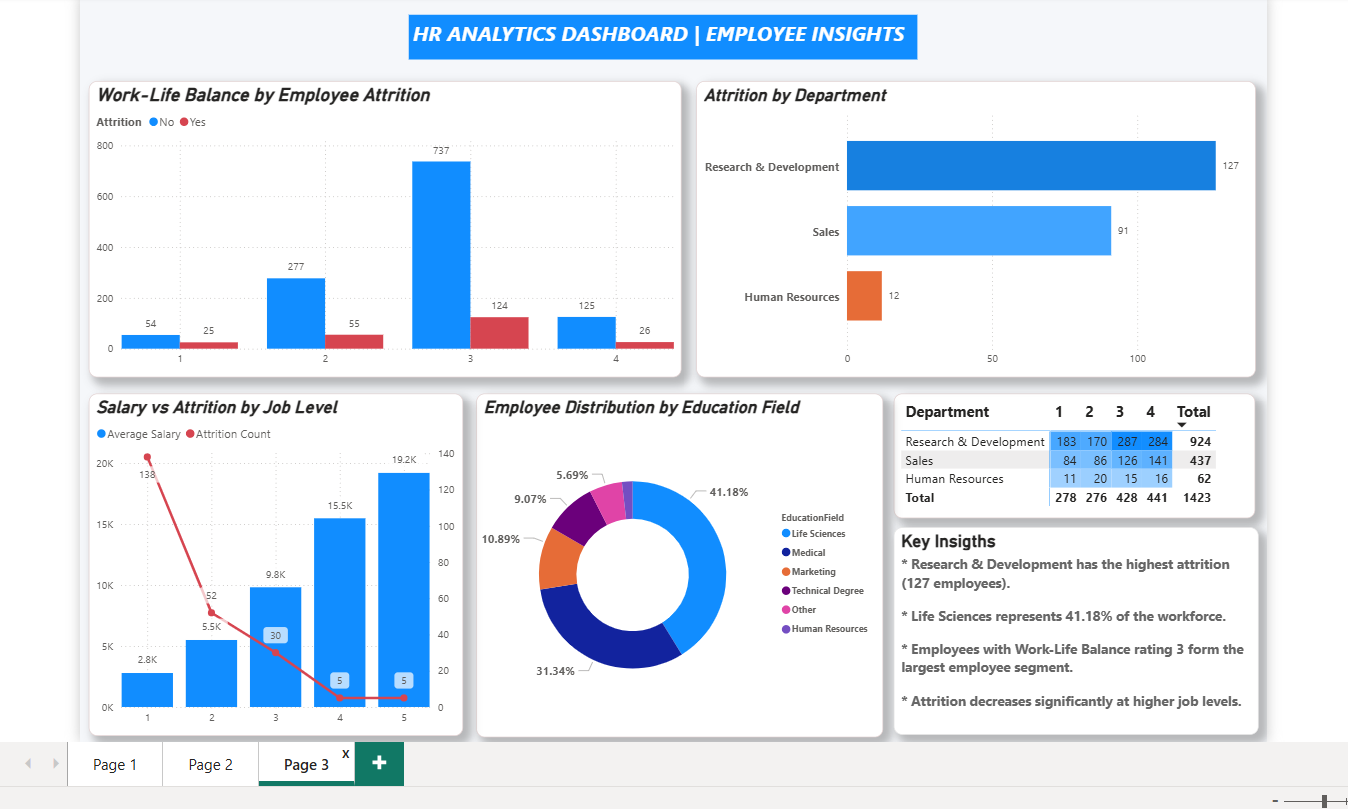

What the dashboard file says about the page in this screenshot:
{"tool":"powerbi","page":{"name":"Page 3","canvas":[1400,880],"ordinal":2},"visuals":[{"type":"textbox","box":[387.2,22.5,600.3,52.5],"z":0},{"type":"pivotTable","fields":{"Rows":["HR_Analytics.Department"],"Columns":["HR_Analytics.JobSatisfaction"],"Values":["HR_Analytics.Total Employees"]},"box":[960.6,468.3,426.2,147.1],"z":1000},{"type":"clusteredColumnChart","title":"Work-Life Balance by Employee Attrition","fields":{"Category":["HR_Analytics.WorkLifeBalance"],"Y":["HR_Analytics.Total Employees"],"Series":["HR_Analytics.Attrition"]},"box":[10.5,100.6,699.4,349.7],"z":2000},{"type":"clusteredBarChart","title":"Attrition by Department","fields":{"Category":["HR_Analytics.Department"],"Y":["HR_Analytics.Attrition Count"]},"box":[726.4,100.6,660.4,349.7],"z":3000},{"type":"donutChart","title":"Employee Distribution by Education Field","fields":{"Category":["HR_Analytics.EducationField"],"Y":["HR_Analytics.Total Employees"]},"box":[466.8,468.3,480.3,405.2],"z":4000},{"type":"lineClusteredColumnComboChart","title":"Salary vs Attrition by Job Level","fields":{"Y2":["HR_Analytics.Attrition Count"],"Category":["HR_Analytics.JobLevel"],"Y":["HR_Analytics.Average Salary"]},"box":[10.5,468.3,441.3,403.7],"z":5000},{"type":"textbox","title":"Key Insigths","box":[960.6,627.4,430.7,244.6],"z":6000}]}

Visuals, with their boxes on the page's 1400x880 design canvas (x1, y1, x2, y2). These are canvas units, not pixel positions in the 1348x809 screenshot, which may show the page scaled, cropped or inside an application window:
textbox: bbox=(387, 22, 988, 75)
pivotTable - HR_Analytics.Department x HR_Analytics.JobSatisfaction: bbox=(961, 468, 1387, 615)
"Work-Life Balance by Employee Attrition" clusteredColumnChart: bbox=(10, 101, 710, 450)
"Attrition by Department" clusteredBarChart: bbox=(726, 101, 1387, 450)
"Employee Distribution by Education Field" donutChart: bbox=(467, 468, 947, 874)
"Salary vs Attrition by Job Level" lineClusteredColumnComboChart: bbox=(10, 468, 452, 872)
"Key Insigths" textbox: bbox=(961, 627, 1391, 872)
